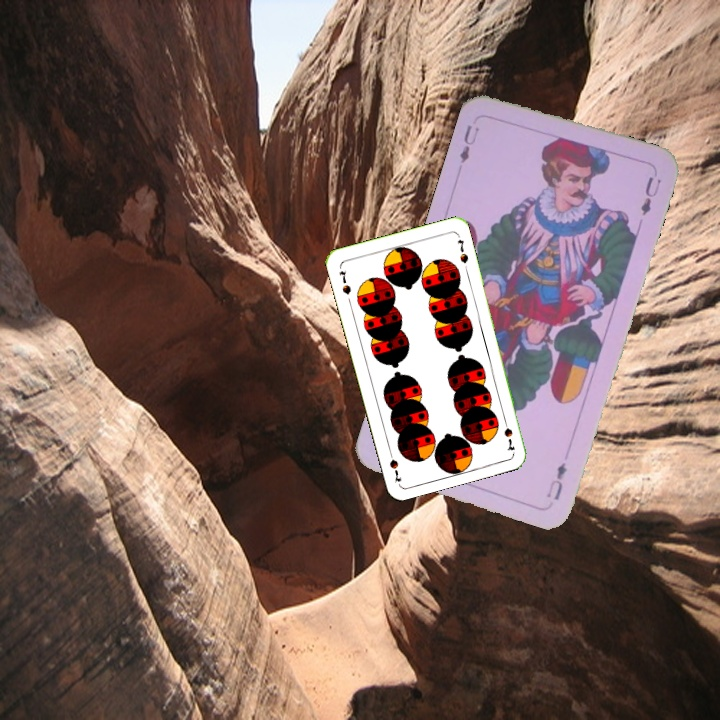EU: (542, 458, 570, 503), (455, 120, 482, 166)
S7: (500, 414, 517, 453), (335, 266, 354, 297)
